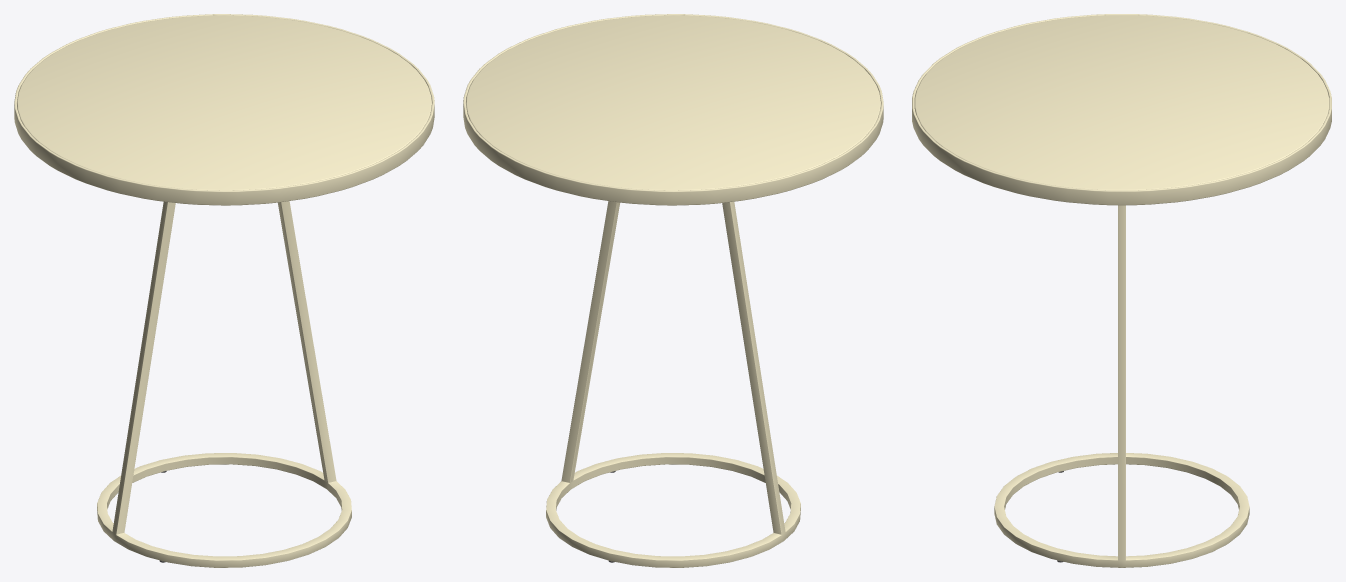
File: roundTableWhite.glb
The picture shows the model from 3 angles, left to right: view 1: azimuth 30°, elevation 25°; view 2: azimuth 150°, elevation 25°; view 3: azimuth 270°, elevation 25°; orthographic projection.
Visible parts, largest first — view 1: Table top.001, Table main, Table top ring; view 2: Table top.001, Table main, Table top ring; view 3: Table top.001, Table main, Table top ring.
Part boxes in pixels (left/top/right/bottom): Table top.001: left=17, top=15, right=431, bottom=190; Table main: left=97, top=201, right=351, bottom=567; Table top ring: left=14, top=14, right=434, bottom=205; Table top.001: left=466, top=15, right=880, bottom=190; Table main: left=546, top=201, right=800, bottom=567; Table top ring: left=463, top=14, right=883, bottom=205; Table top.001: left=914, top=15, right=1329, bottom=190; Table main: left=994, top=205, right=1249, bottom=567; Table top ring: left=912, top=14, right=1331, bottom=205.
Size of the model in its own units: 0.5373 by 0.5843 by 0.5373.
